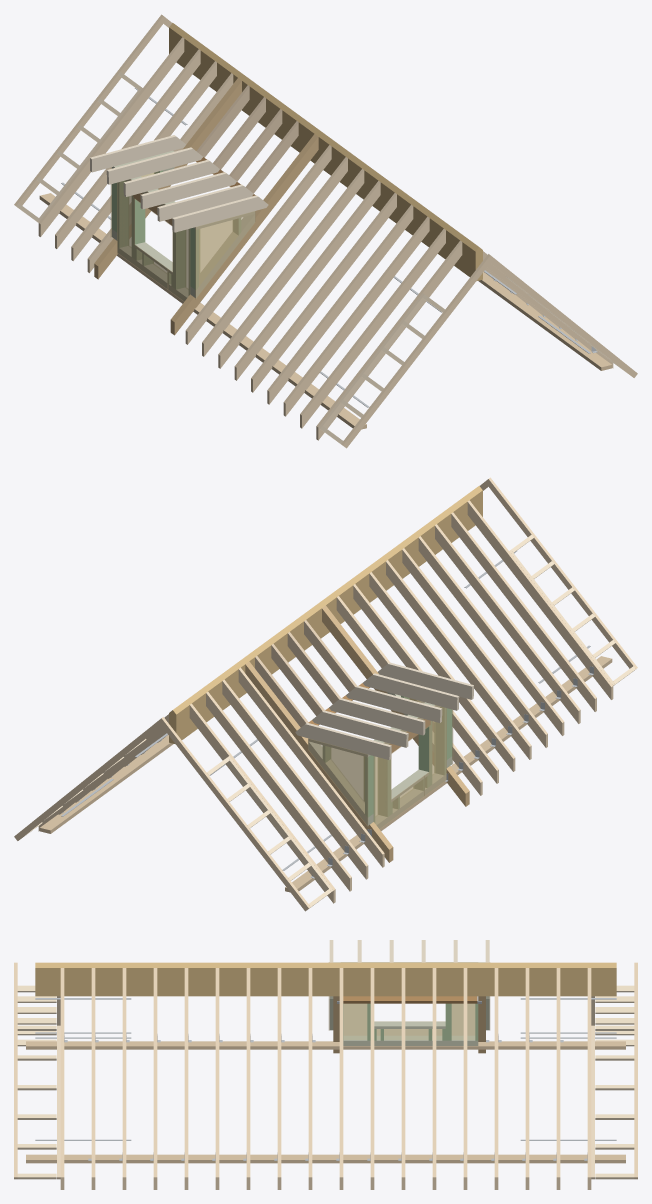
Rendered from stage-4.glb.
The picture shows the model from 3 angles, top to bottom: view 1: azimuth 30°, elevation 25°; view 2: azimuth 150°, elevation 25°; view 3: azimuth 270°, elevation 25°; orthographic projection. The views are drawn at different scales.
Visible parts, largest first — view 1: Geom3D_R03 common 47 x 122 C24 L2856, Geom3D_DM1-39 ceiling joist 47 x 175 C24 L1295, Geom3D_GB01 ridge beam 100 x 440 GL24h L7799, Geom3D_DM1-18 osb 9 x 1200 OSB3 L1200, Geom3D_Ply 1, Geom3D, Geom3D_CP31 cripple 47 x 122 C24 L1118, Geom3D_DM1-8 dormer stud 38 x 140 C16 L936, Geom3D_DM1-1 dormer plate 38 x 140 C16 L1720, Geom3D_DM1-20 insulation 120 x 296 MW L936, Geom3D_LR41 ladder rail 47 x 72 C24 L2019, Geom3D_OR42 outrigger 47 x 72 C24 L488 (+1 smaller); view 2: Geom3D_R03 common 47 x 122 C24 L2856, Geom3D_DM1-39 ceiling joist 47 x 175 C24 L1295, Geom3D_GB01 ridge beam 100 x 440 GL24h L7799, Geom3D_DM1-18 osb 9 x 1200 OSB3 L1200, Geom3D, Geom3D_DM1-8 dormer stud 38 x 140 C16 L936, Geom3D_Ply 1, Geom3D_CP31 cripple 47 x 122 C24 L1118, Geom3D_DM1-1 dormer plate 38 x 140 C16 L1720, Geom3D_DM1-20 insulation 120 x 296 MW L936, Geom3D_LR41 ladder rail 47 x 72 C24 L2019, Geom3D_OR42 outrigger 47 x 72 C24 L488 (+1 smaller); view 3: Geom3D_R03 common 47 x 122 C24 L2856, Geom3D_GB01 ridge beam 100 x 440 GL24h L7799, Geom3D, Geom3D_OR42 outrigger 47 x 72 C24 L488, Geom3D_DM1-1 dormer plate 38 x 140 C16 L1720, Geom3D_DM1-20 insulation 120 x 296 MW L936, Geom3D_DM1-18 osb 9 x 1200 OSB3 L1200, Geom3D_TCP47 clip, Geom3D_Ply 1 (×2), Geom3D_LR41 ladder rail 47 x 72 C24 L2019, Geom3D_DM1-8 dormer stud 38 x 140 C16 L936, Geom3D_DM1-39 ceiling joist 47 x 175 C24 L1295.
Boxes of the visible parts, bbox=[...] form: Geom3D_R03 common 47 x 122 C24 L2856: bbox=[14, 14, 637, 448]; Geom3D_DM1-39 ceiling joist 47 x 175 C24 L1295: bbox=[90, 135, 268, 232]; Geom3D_GB01 ridge beam 100 x 440 GL24h L7799: bbox=[169, 23, 482, 281]; Geom3D_DM1-18 osb 9 x 1200 OSB3 L1200: bbox=[110, 167, 255, 301]; Geom3D_Ply 1: bbox=[94, 78, 318, 335]; Geom3D: bbox=[39, 193, 612, 429]; Geom3D_CP31 cripple 47 x 122 C24 L1118: bbox=[196, 85, 298, 193]; Geom3D_DM1-8 dormer stud 38 x 140 C16 L936: bbox=[111, 170, 241, 295]; Geom3D_DM1-1 dormer plate 38 x 140 C16 L1720: bbox=[111, 150, 255, 301]; Geom3D_DM1-20 insulation 120 x 296 MW L936: bbox=[120, 172, 237, 289]; Geom3D_LR41 ladder rail 47 x 72 C24 L2019: bbox=[36, 87, 609, 430]; Geom3D_OR42 outrigger 47 x 72 C24 L488: bbox=[16, 71, 629, 445]; Geom3D_R03 common 47 x 122 C24 L2856: bbox=[14, 477, 637, 911]; Geom3D_DM1-39 ceiling joist 47 x 175 C24 L1295: bbox=[295, 662, 473, 760]; Geom3D_GB01 ridge beam 100 x 440 GL24h L7799: bbox=[169, 486, 482, 744]; Geom3D_DM1-18 osb 9 x 1200 OSB3 L1200: bbox=[308, 698, 453, 828]; Geom3D: bbox=[39, 656, 612, 892]; Geom3D_DM1-8 dormer stud 38 x 140 C16 L936: bbox=[322, 696, 452, 822]; Geom3D_Ply 1: bbox=[245, 605, 469, 862]; Geom3D_CP31 cripple 47 x 122 C24 L1118: bbox=[255, 620, 356, 727]; Geom3D_DM1-1 dormer plate 38 x 140 C16 L1720: bbox=[308, 692, 452, 828]; Geom3D_DM1-20 insulation 120 x 296 MW L936: bbox=[326, 697, 443, 816]; Geom3D_LR41 ladder rail 47 x 72 C24 L2019: bbox=[42, 550, 615, 893]; Geom3D_OR42 outrigger 47 x 72 C24 L488: bbox=[22, 534, 635, 908]; Geom3D_R03 common 47 x 122 C24 L2856: bbox=[14, 962, 637, 1189]; Geom3D_GB01 ridge beam 100 x 440 GL24h L7799: bbox=[35, 962, 616, 996]; Geom3D: bbox=[26, 1041, 625, 1163]; Geom3D_OR42 outrigger 47 x 72 C24 L488: bbox=[17, 985, 634, 1179]; Geom3D_DM1-1 dormer plate 38 x 140 C16 L1720: bbox=[329, 962, 489, 1045]; Geom3D_DM1-20 insulation 120 x 296 MW L936: bbox=[344, 1004, 474, 1039]; Geom3D_DM1-18 osb 9 x 1200 OSB3 L1200: bbox=[328, 962, 490, 1035]; Geom3D_TCP47 clip: bbox=[35, 996, 616, 1160]; Geom3D_Ply 1 (×2): bbox=[333, 996, 485, 1053]; Geom3D_LR41 ladder rail 47 x 72 C24 L2019: bbox=[57, 996, 594, 1179]; Geom3D_DM1-8 dormer stud 38 x 140 C16 L936: bbox=[343, 1003, 478, 1040]; Geom3D_DM1-39 ceiling joist 47 x 175 C24 L1295: bbox=[329, 940, 489, 962].
Bounding box in the file's own units: 4.07 × 2.19 × 7.8.
